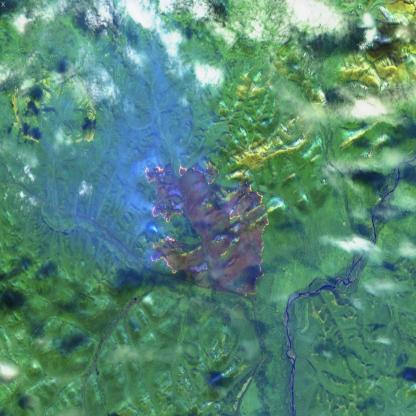fire: (140, 157, 272, 302)
